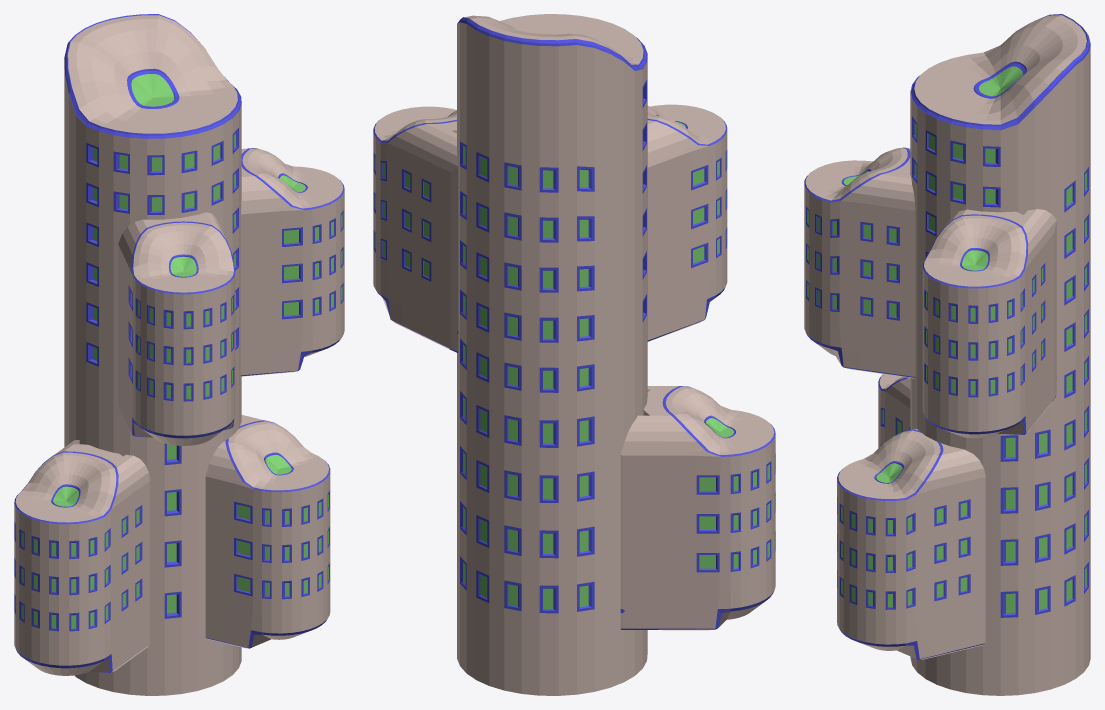
File: Logement_L.fbx
The picture shows the model from 3 angles, left to right: view 1: azimuth 30°, elevation 25°; view 2: azimuth 150°, elevation 25°; view 3: azimuth 270°, elevation 25°; orthographic projection. The views are drawn at different scales.
Visible parts, largest first — view 1: Cylinder.006; view 2: Cylinder.006; view 3: Cylinder.006.
Boxes of the visible parts, x1=… form: Cylinder.006: x1=14, y1=14, x2=344, y2=695; Cylinder.006: x1=373, y1=14, x2=775, y2=695; Cylinder.006: x1=804, y1=14, x2=1090, y2=695.
Size of the model in its own units: 1915 by 3291 by 1384.
